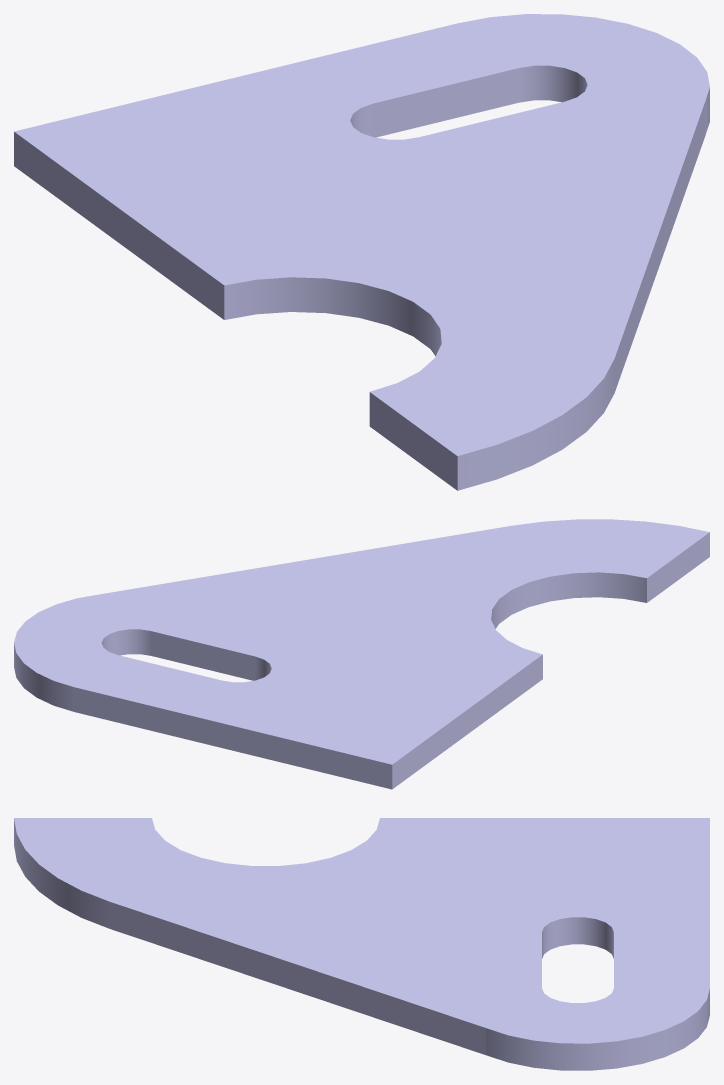
File: 13Shaft support.fbx
The picture shows the model from 3 angles, top to bottom: view 1: azimuth 30°, elevation 25°; view 2: azimuth 150°, elevation 25°; view 3: azimuth 270°, elevation 25°; orthographic projection. The views are drawn at different scales.
Visible parts, largest first — view 1: PartBody; view 2: PartBody; view 3: PartBody.
Part boxes in pixels (x1,y1,x2,y2): PartBody: (14, 14, 709, 490); PartBody: (14, 519, 709, 789); PartBody: (14, 818, 709, 1070).
Bounding box in the file's own units: 3.5 × 0.1969 × 4.57.
